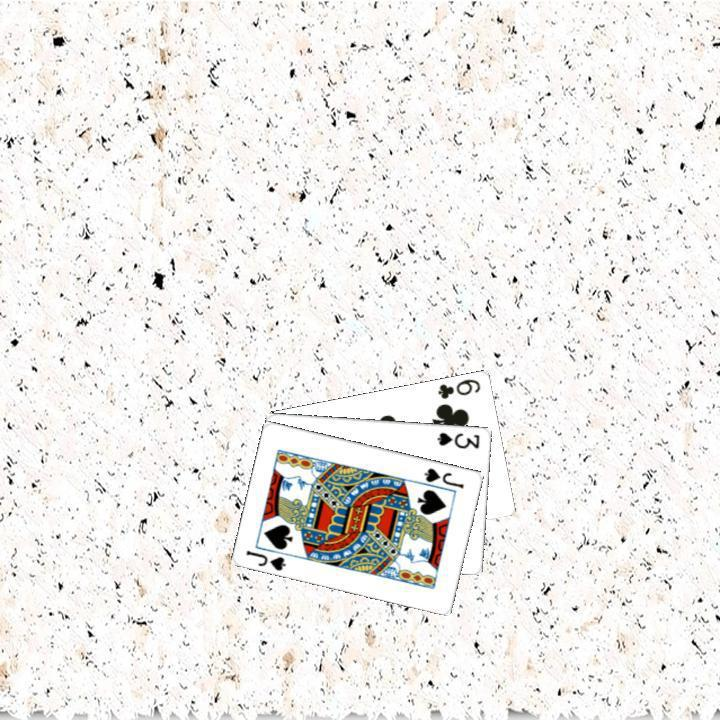3: (433, 427, 482, 450)
6: (434, 374, 483, 401)
J: (420, 463, 466, 490), (242, 545, 288, 572)
